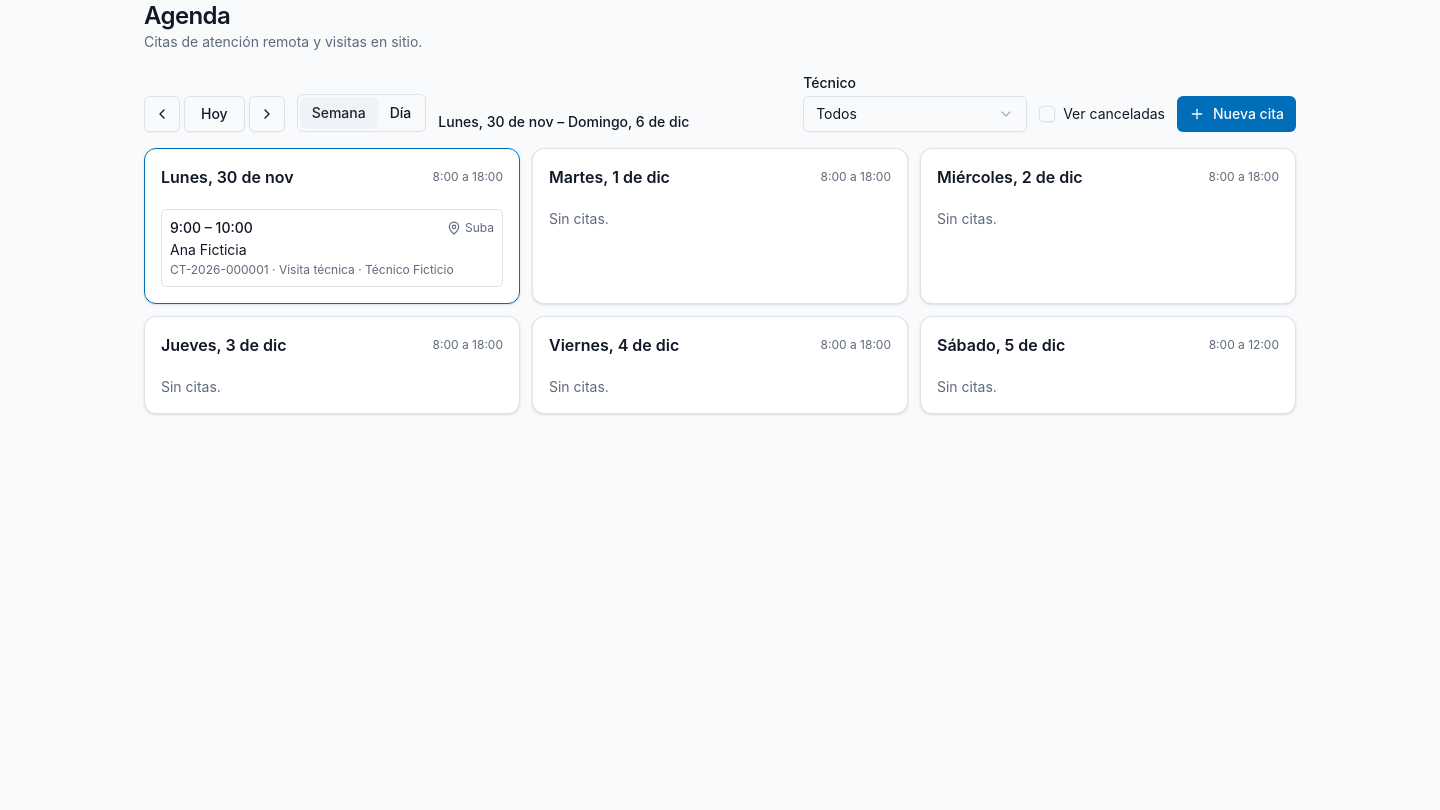
AgendaPage › shows the week with hours, appointments and the detail
Check: the text "9:00 – 10:00" is shown, box left=170, top=218, right=253, bottom=238
Check: the 1st text "8:00 a 18:00" is shown, box left=433, top=169, right=503, bottom=185
Click the text "Ana Ficticia". click: coordinates (208, 250)
box: left=170, top=241, right=247, bottom=258
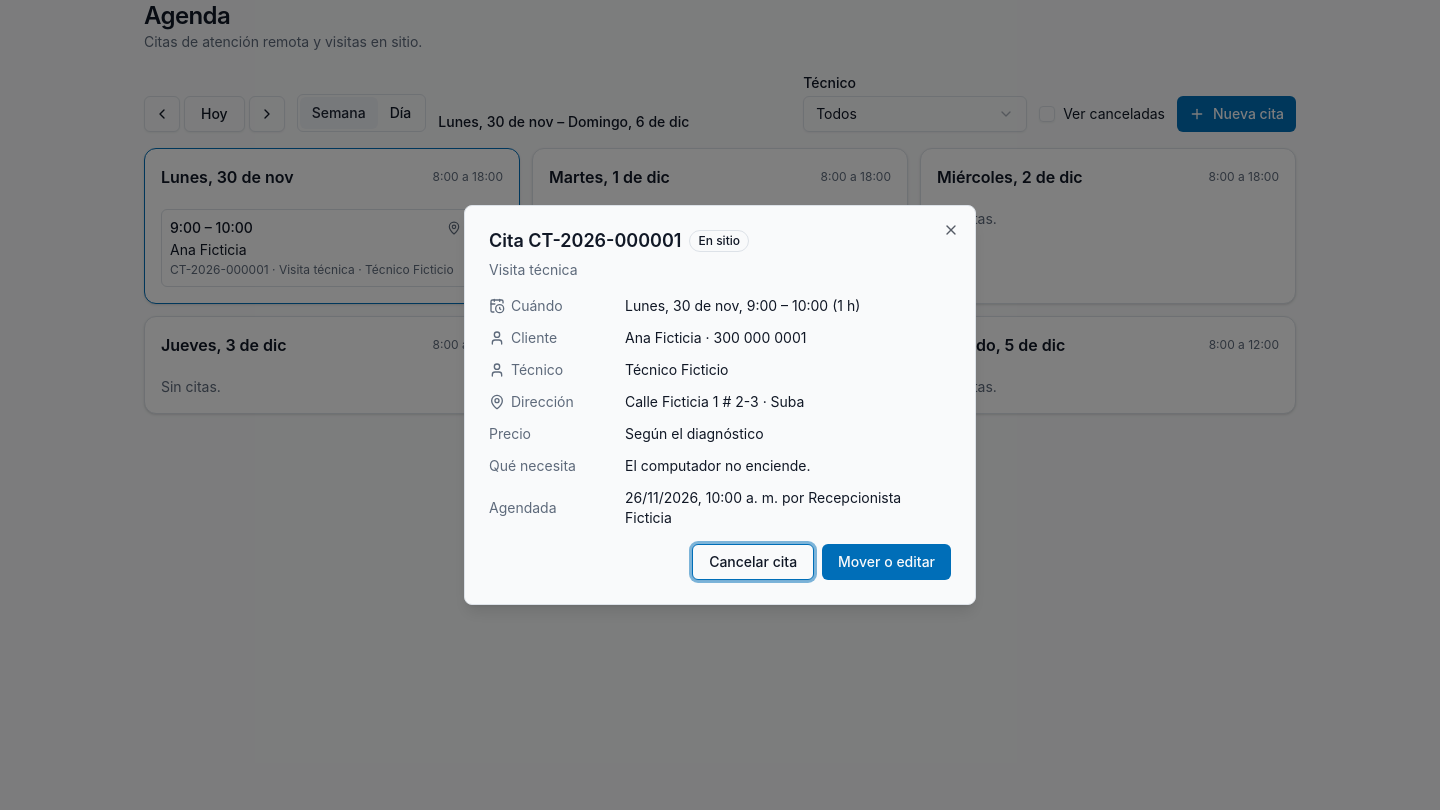
Check: the heading "Cita CT-2026-000001 En sitio" is shown, box left=489, top=230, right=749, bottom=252
Check: the text "Calle Ficticia 1 # 2-3 · Suba" is shown, box left=625, top=393, right=804, bottom=410
Check: the text "Según el diagnóstico" is shown, box left=625, top=425, right=764, bottom=442
